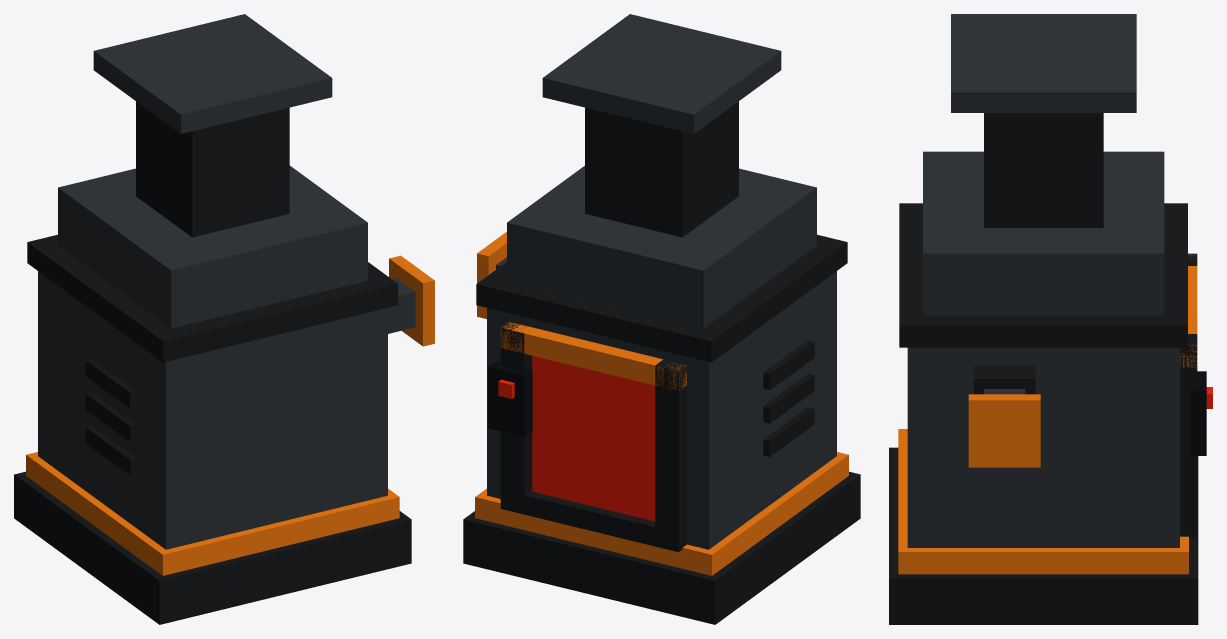
Rendered from IndustrialSmelter.obj.
The picture shows the model from 3 angles, left to right: view 1: azimuth 30°, elevation 25°; view 2: azimuth 150°, elevation 25°; view 3: azimuth 270°, elevation 25°; orthographic projection. The views are drawn at different scales.
Parts seen in each view (by area): view 1: SteelPanel, DarkSteel, Warning; view 2: SteelPanel, DarkSteel, HotCore, Warning, Control; view 3: SteelPanel, DarkSteel, Warning, Control.
Boxes of the visible parts, x1,y1,x2,y2 form: SteelPanel: (38,14,415,549); DarkSteel: (14,101,411,624); Warning: (26,255,434,575); SteelPanel: (487,14,836,549); DarkSteel: (463,101,860,624); HotCore: (498,355,655,521); Warning: (475,232,848,575); Control: (488,361,532,436); SteelPanel: (907,14,1179,547); DarkSteel: (889,113,1198,624); Warning: (898,254,1197,574); Control: (1190,371,1206,455).
Size of the model in its own units: 3.72 by 5.42 by 3.14.
